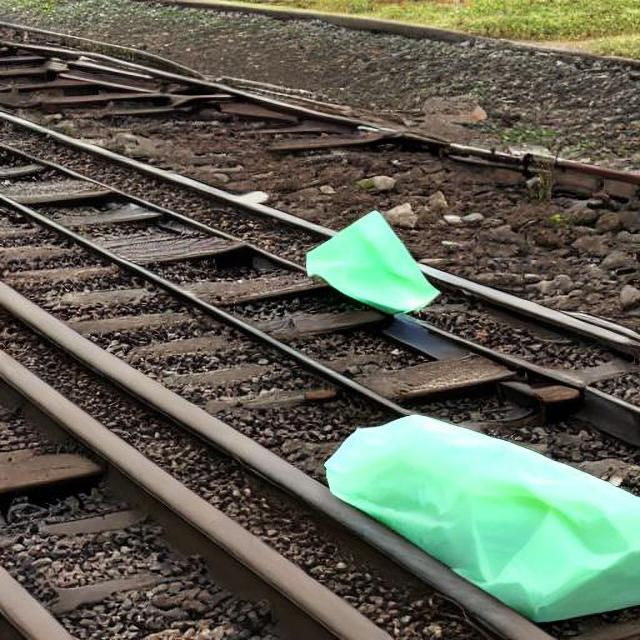plastic bag: (329, 410, 636, 630), (306, 207, 436, 315)
